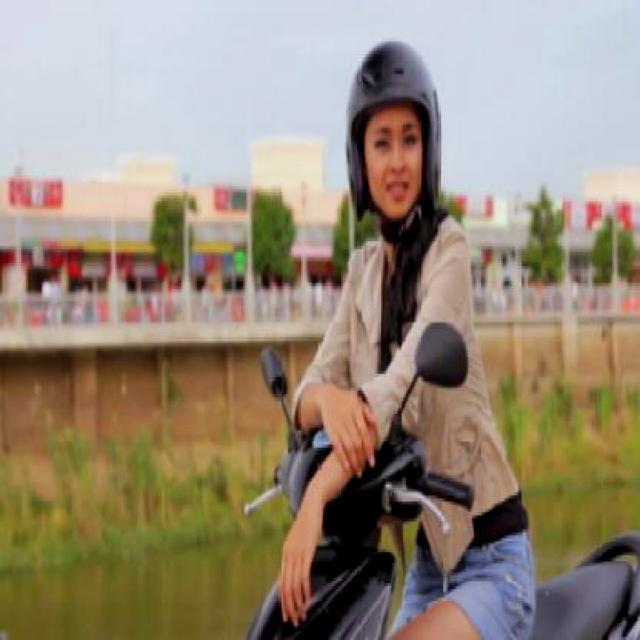With Helmet: (338, 37, 447, 232)
